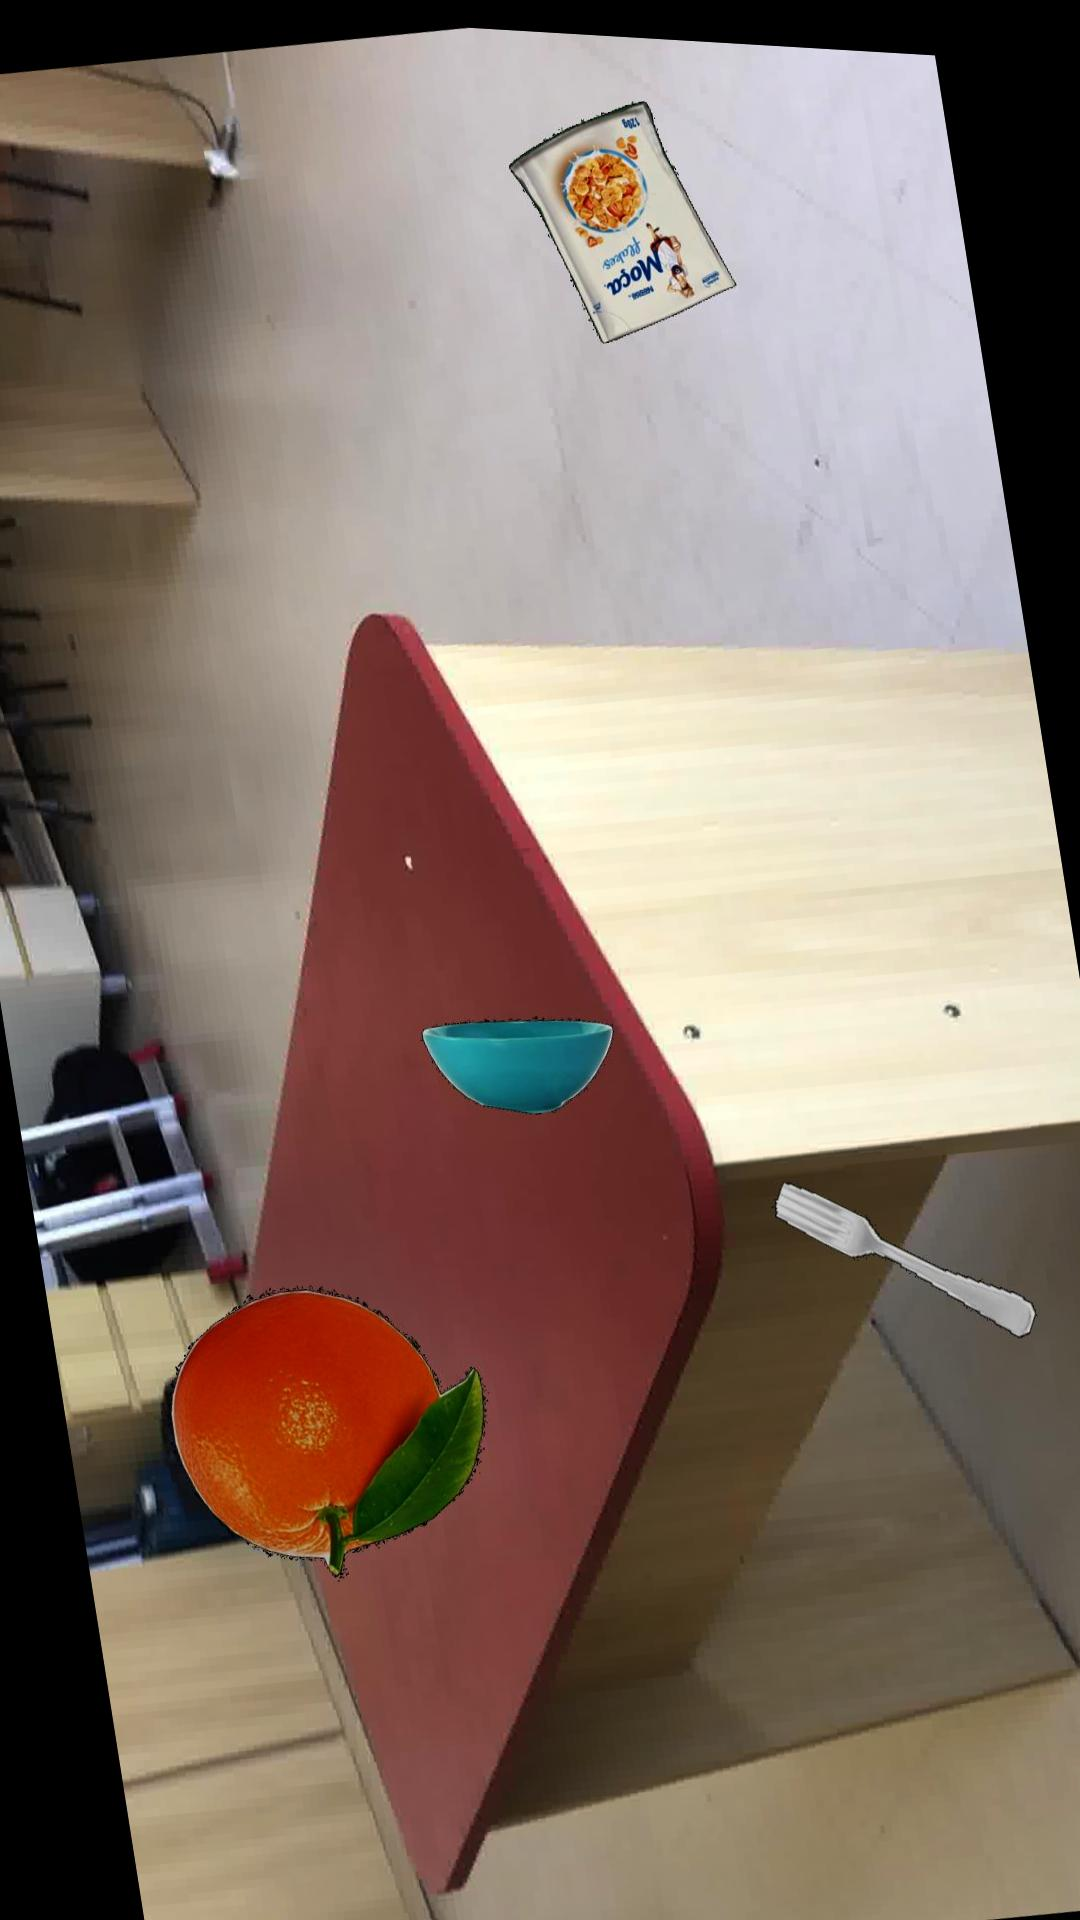bowl: (422, 1009, 615, 1105)
corn flakes: (510, 91, 737, 334)
fork: (775, 1170, 1036, 1323)
orange: (170, 1282, 488, 1572)
